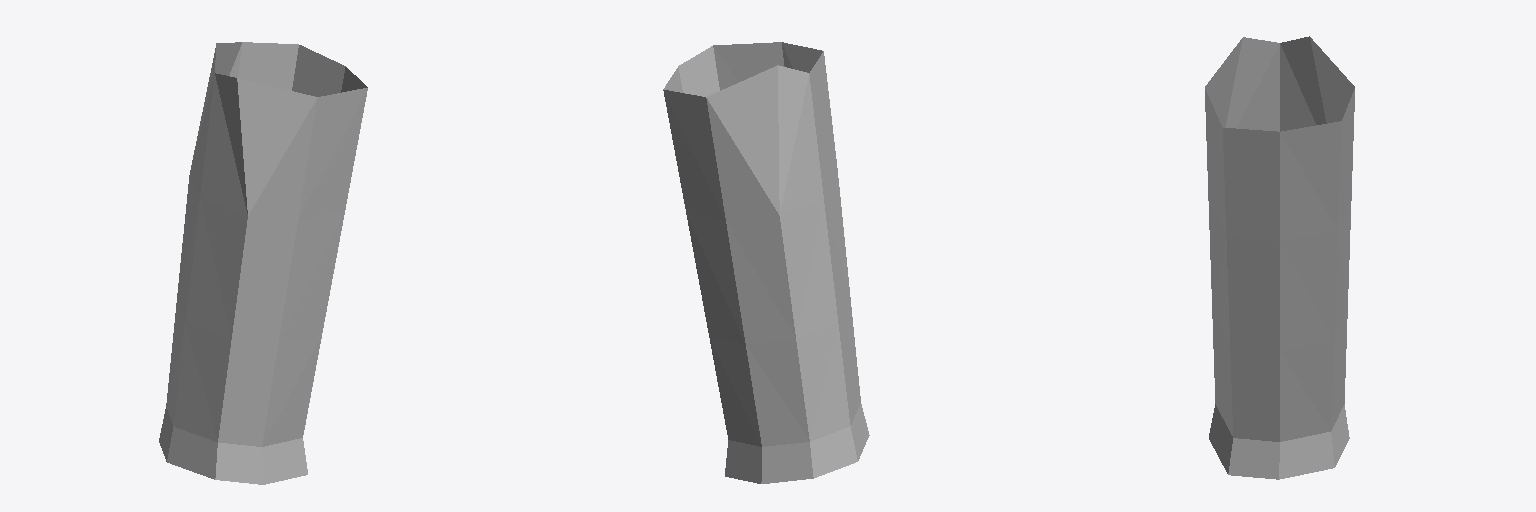
Rendered from upperRarm.obj.
3 renders of one model, left to right at view 1: azimuth 30°, elevation 25°; view 2: azimuth 150°, elevation 25°; view 3: azimuth 270°, elevation 25°, orthographic.
Visible parts, largest first — view 1: upperRarm_Cube.001; view 2: upperRarm_Cube.001; view 3: upperRarm_Cube.001.
Part boxes in pixels (x1,y1,x2,y2): upperRarm_Cube.001: (159,42,367,484); upperRarm_Cube.001: (663,42,869,483); upperRarm_Cube.001: (1205,36,1354,479).
Bounding box in the file's own units: 0.3952 × 0.8753 × 0.2877.